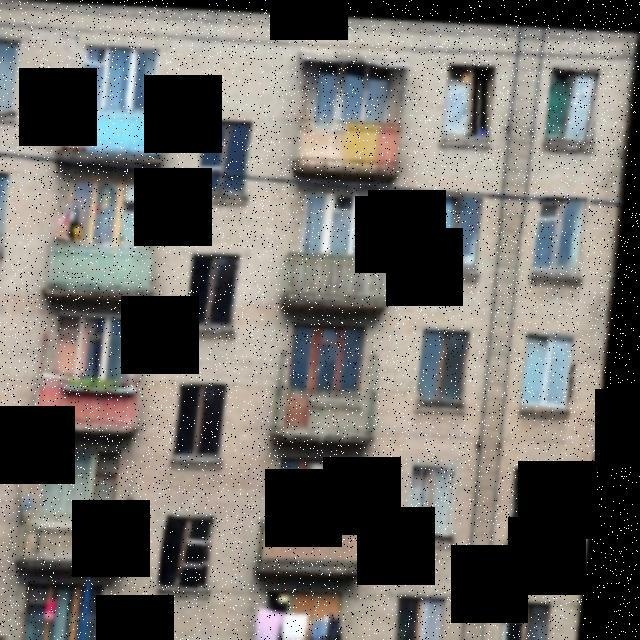Window: (518, 457, 578, 537), (536, 190, 594, 268), (547, 60, 605, 136), (200, 117, 258, 192), (432, 190, 486, 270), (527, 326, 583, 402), (170, 511, 224, 587), (180, 380, 234, 455), (416, 458, 466, 538), (424, 326, 478, 399), (194, 250, 246, 325), (446, 60, 498, 132), (0, 37, 20, 116), (0, 172, 13, 246), (0, 309, 1, 383)
